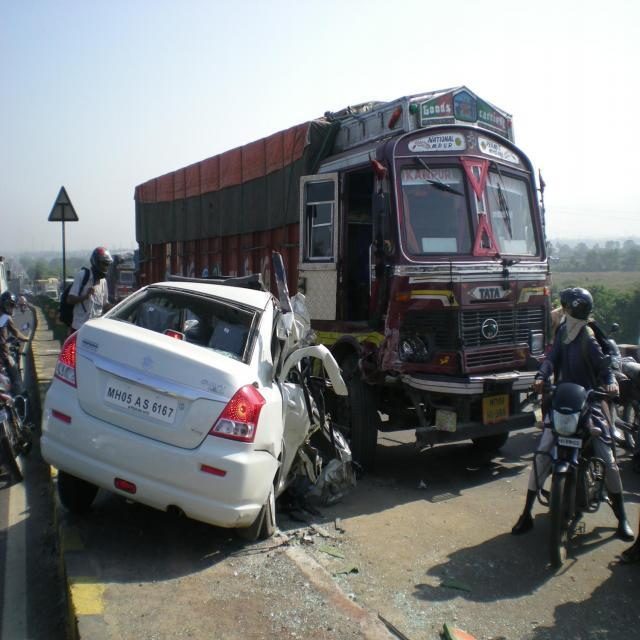accident: (41, 84, 555, 548)
